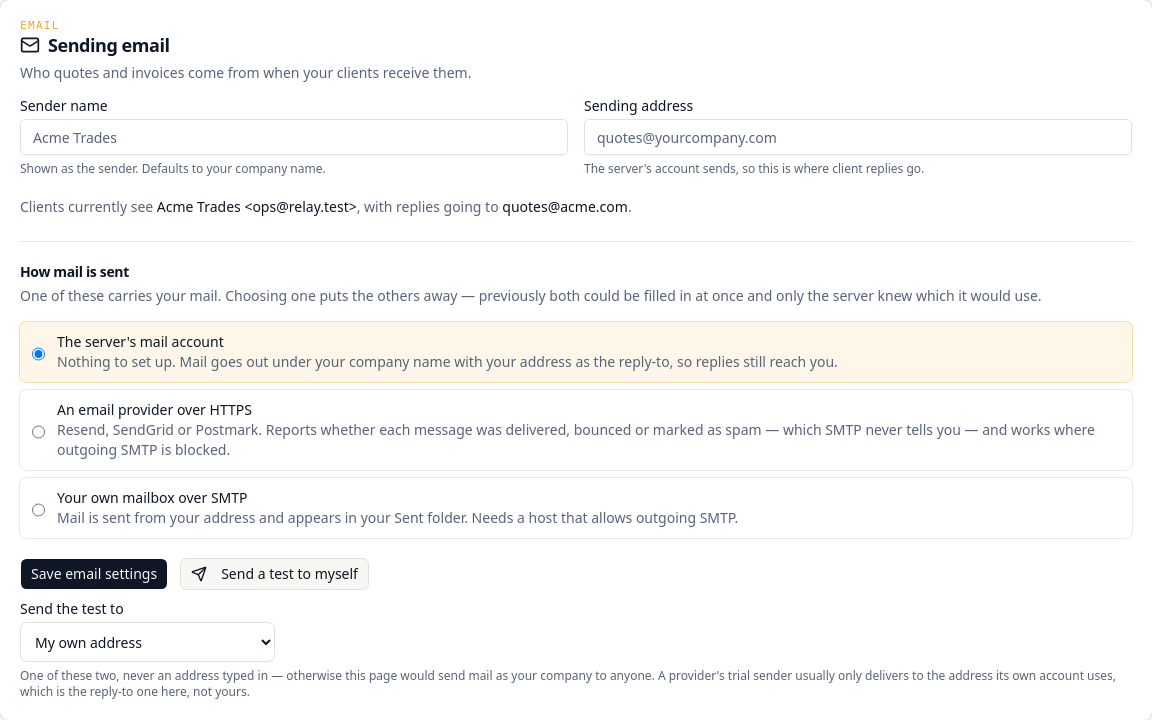
Test: saving a choice › will not save a provider with no key
Step 1. Type "quotes@acme.com" into the field labelled "Sending address" → (858,137), box [584,119,1132,155]
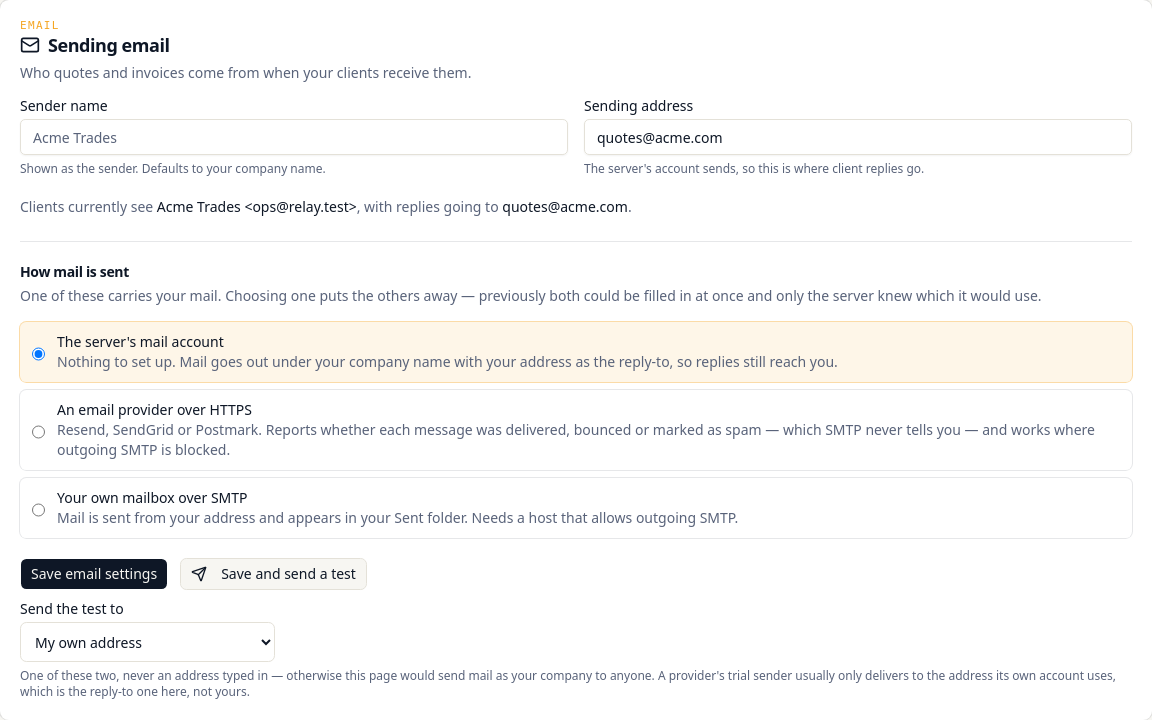
Step 2. Click the radio button labelled "email provider" → (38,432), box [32,404,45,460]
(page scrolled)
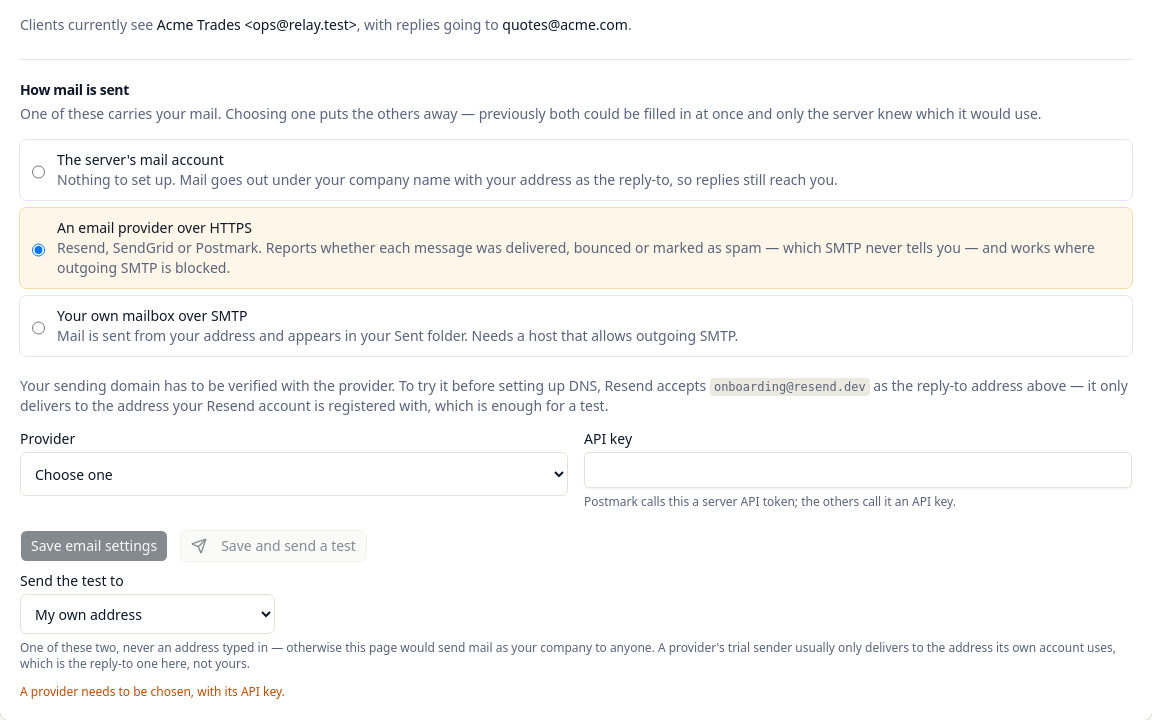
Check: the button "Save email settings" is disabled, box [20,530,168,562]
Check: the text "A provider needs to be chosen, with its API key." is shown, box [20,684,285,700]
